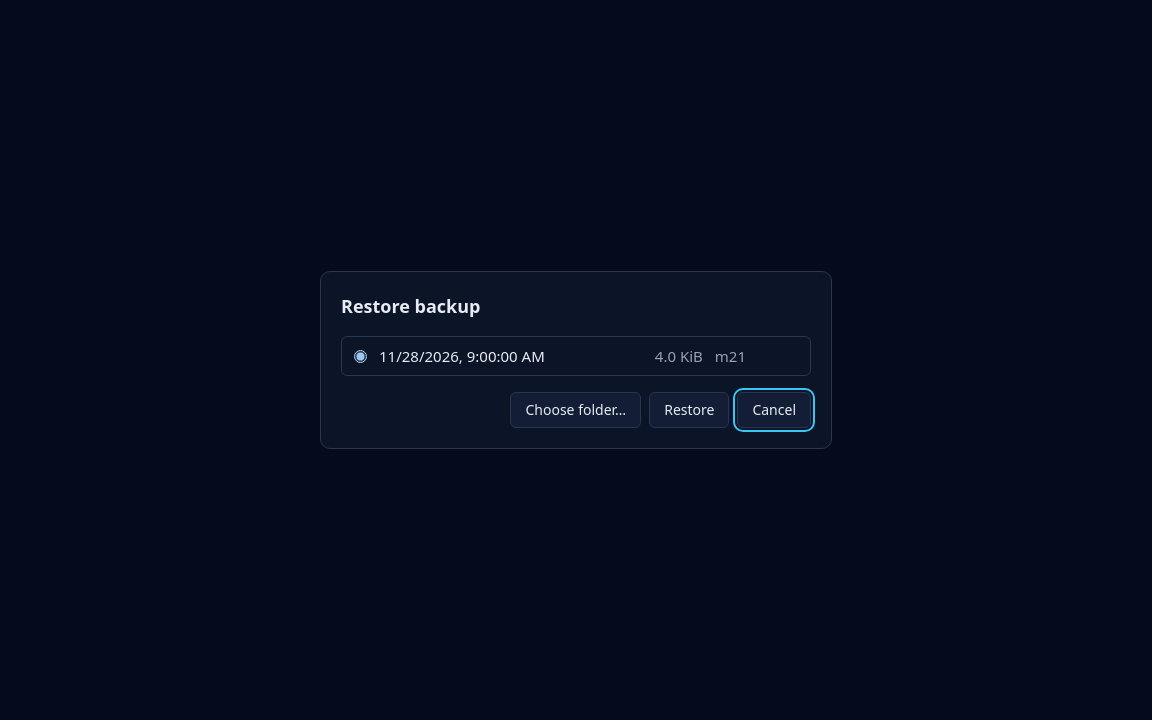
Test case: a cancelled confirmation restores nothing
Click the button "Restore".
click(689, 410)  # box [649,392,729,428]
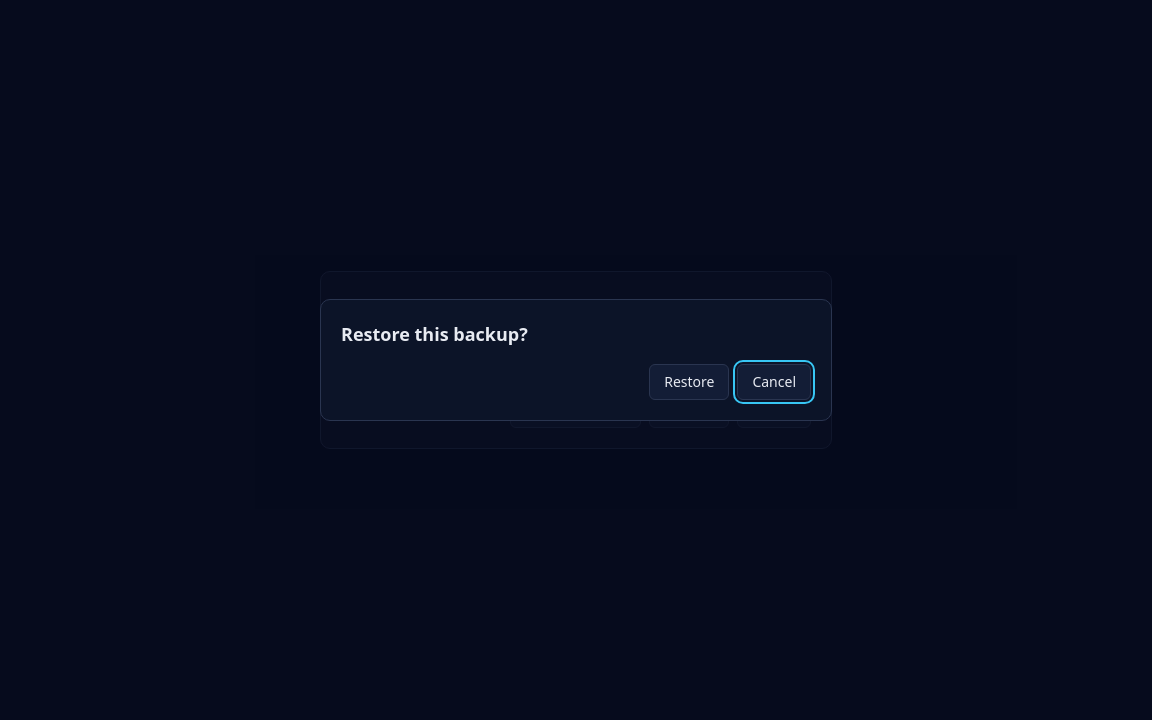
Click the button "Cancel".
click(774, 382)  # box [737,364,811,400]
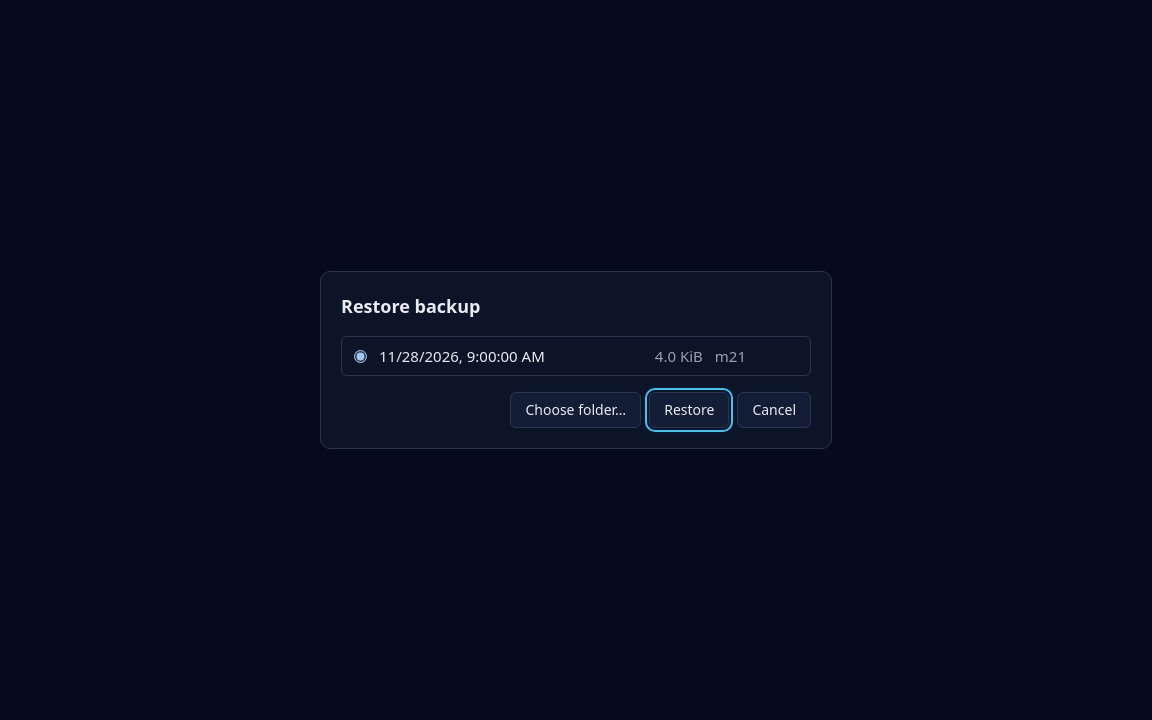
Check: the heading "Restore this backup?" is gone
